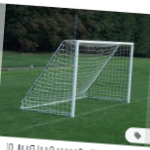goals: (19, 39, 136, 120)
